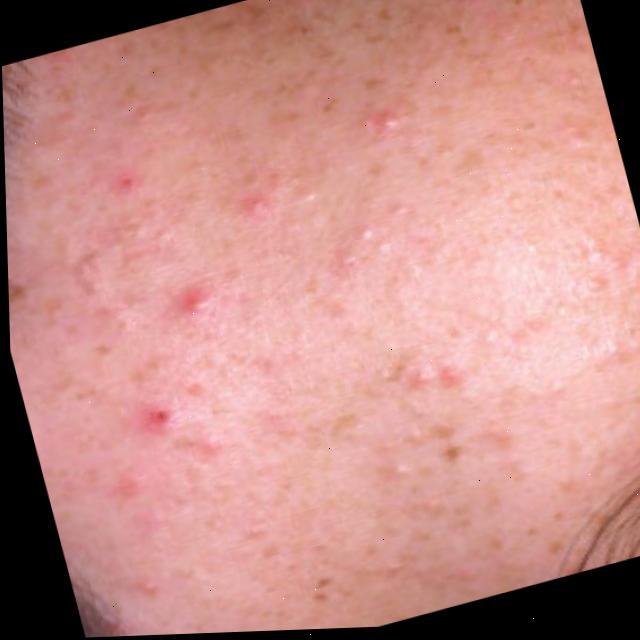Acne: (15, 0, 591, 631)
